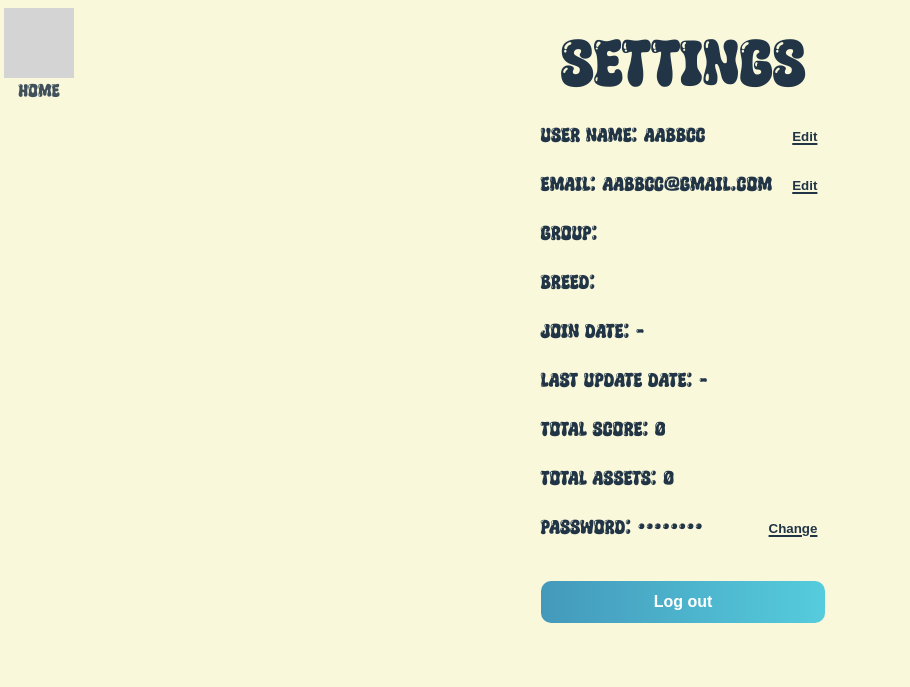
Settings › successfully updates user email
This screenshot has width=910, height=687.
Click the button "Edit" next to "aabbcc@gmail.com". click: (805,186)
box: [784, 175, 825, 196]
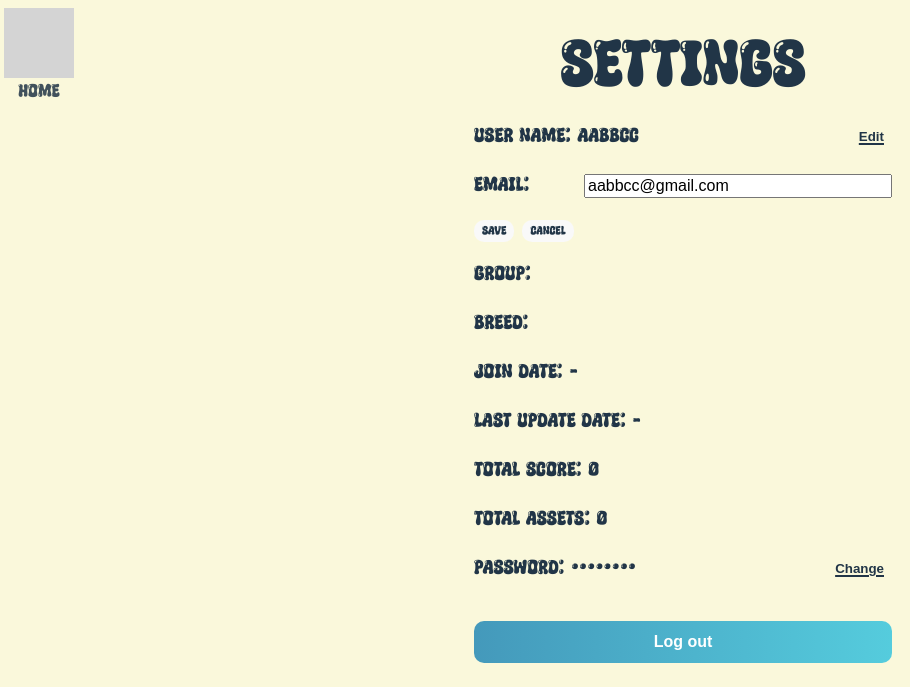
Fill new email
Replace the text in the field labelled "Email:" with "aabbccdd@gmail.com". click: (738,186)
box: [584, 174, 892, 198]
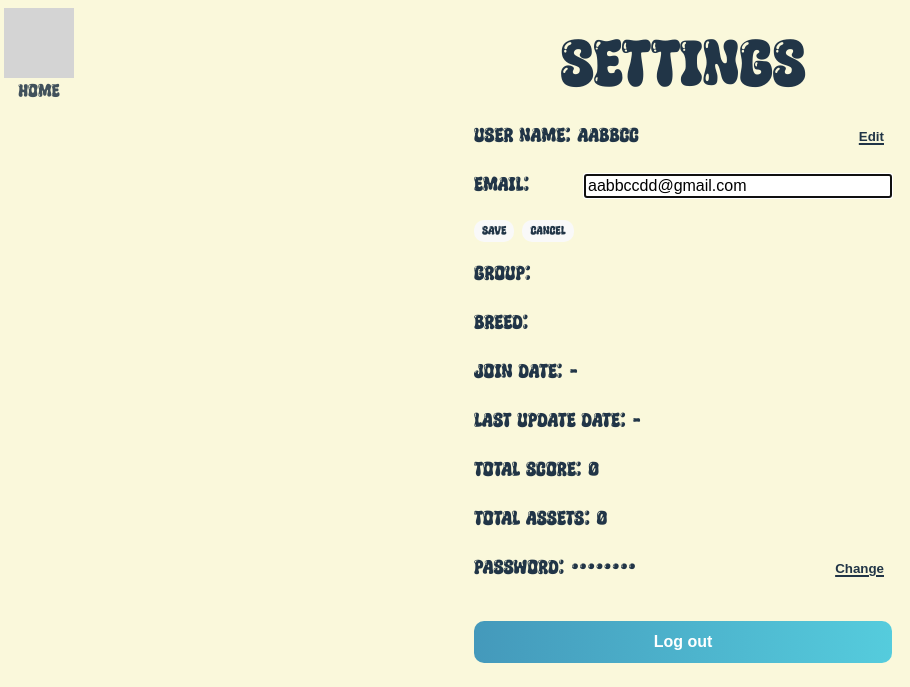
Save changes
Click the button "Save". click: (494,231)
box: [474, 220, 514, 242]
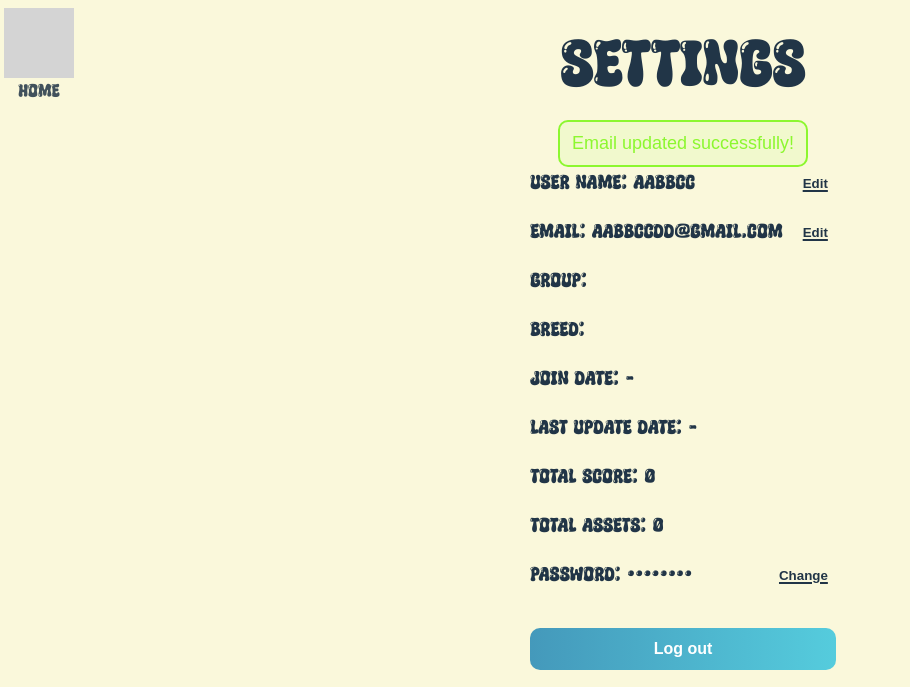
expect the text "Email: aabbccdd@gmail.com" is shown: met, box [530, 224, 783, 240]
